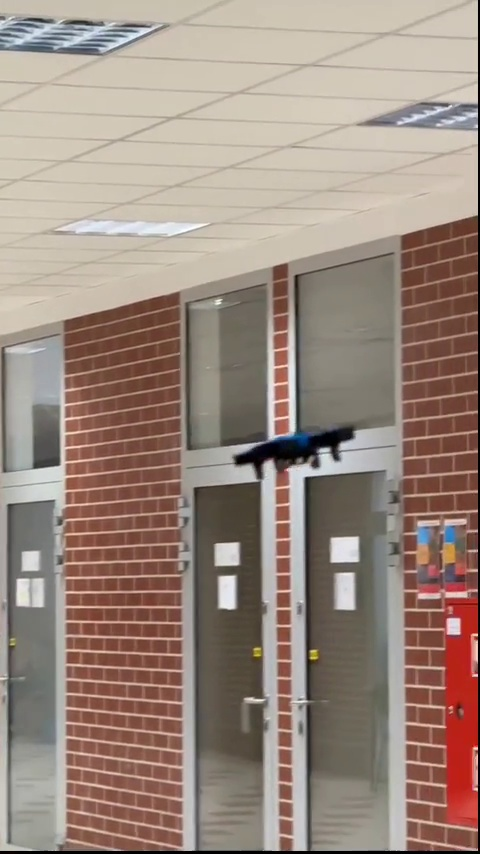drone: (228, 426, 357, 477)
